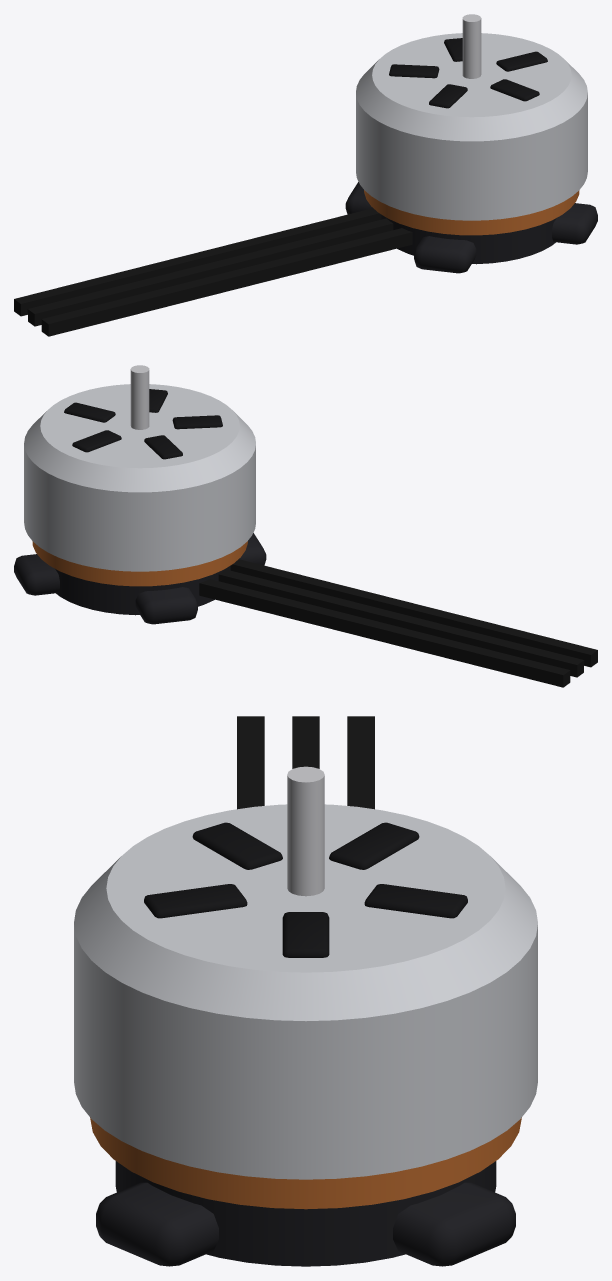
The model's file is motor_1404.glb.
The picture shows the model from 3 angles, top to bottom: view 1: azimuth 30°, elevation 25°; view 2: azimuth 150°, elevation 25°; view 3: azimuth 270°, elevation 25°; orthographic projection. The views are drawn at different scales.
Parts seen in each view (by area): view 1: motor_1404_M_Bell_1404, motor_1404_M_WireBlack, motor_1404_M_MotorBase, motor_1404_M_Copper, motor_1404_M_MotorDark, motor_1404_M_Steel; view 2: motor_1404_M_Bell_1404, motor_1404_M_WireBlack, motor_1404_M_MotorBase, motor_1404_M_Copper, motor_1404_M_MotorDark, motor_1404_M_Steel; view 3: motor_1404_M_Bell_1404, motor_1404_M_MotorBase, motor_1404_M_Copper, motor_1404_M_MotorDark, motor_1404_M_WireBlack, motor_1404_M_Steel.
Part boxes in pixels (x1,y1,x2,y2): motor_1404_M_Bell_1404: (356, 33, 587, 220); motor_1404_M_WireBlack: (14, 208, 412, 336); motor_1404_M_MotorBase: (345, 182, 597, 273); motor_1404_M_Copper: (364, 190, 579, 235); motor_1404_M_MotorDark: (389, 38, 547, 108); motor_1404_M_Steel: (462, 14, 481, 78); motor_1404_M_Bell_1404: (24, 384, 255, 571); motor_1404_M_WireBlack: (199, 559, 597, 687); motor_1404_M_MotorBase: (14, 533, 266, 624); motor_1404_M_Copper: (32, 541, 247, 586); motor_1404_M_MotorDark: (64, 389, 222, 459); motor_1404_M_Steel: (130, 365, 149, 429); motor_1404_M_Bell_1404: (74, 804, 537, 1179); motor_1404_M_MotorBase: (96, 1161, 515, 1266); motor_1404_M_Copper: (90, 1117, 521, 1209); motor_1404_M_MotorDark: (144, 822, 467, 957); motor_1404_M_WireBlack: (237, 716, 374, 809); motor_1404_M_Steel: (287, 766, 324, 896).
Bounding box in the file's own units: 0.0498 × 0.0181 × 0.0185.
